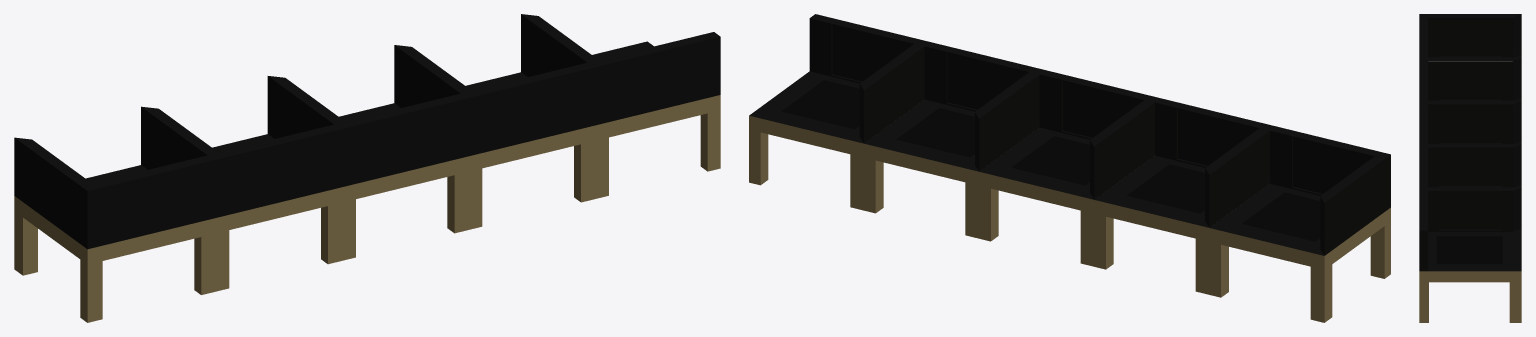
Rendered from Lab_Tables.fbx.
3 views of the same model, side by side, from view 1: azimuth 30°, elevation 25°; view 2: azimuth 150°, elevation 25°; view 3: azimuth 270°, elevation 25° (orthographic). The views are drawn at different scales.
Parts seen in each view (by area): view 1: Cube; view 2: Cube; view 3: Cube.
Boxes of the visible parts, x1,y1,x2,y2 form: Cube: [14, 14, 720, 322]; Cube: [749, 14, 1390, 322]; Cube: [1419, 14, 1521, 322].
Bounding box in the file's own units: 1000 × 199 × 200.
